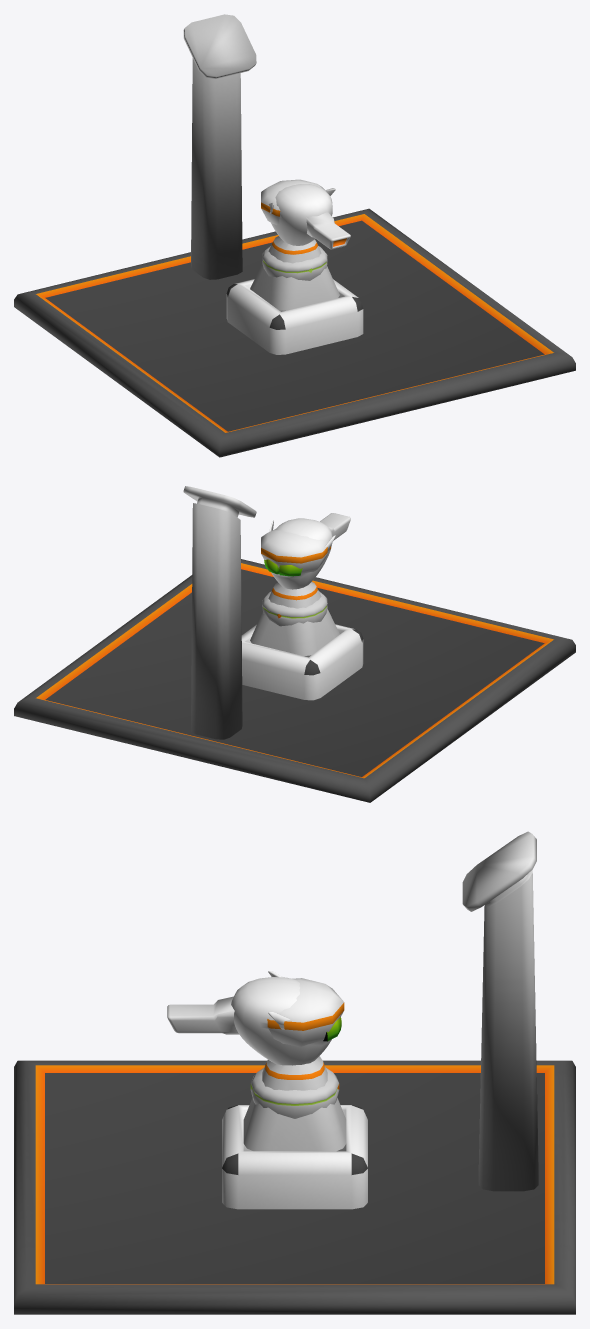
Rendered from Game Architecture Props.fbx.
3 renders of one model, top to bottom at view 1: azimuth 30°, elevation 25°; view 2: azimuth 150°, elevation 25°; view 3: azimuth 270°, elevation 25°, orthographic. The views are drawn at different scales.
Visible parts, largest first — view 1: Lift, Pressure_Cube, Laser Turret, Robot Good; view 2: Lift, Laser Turret, Pressure_Cube, Robot Good; view 3: Lift, Laser Turret, Pressure_Cube, Robot Good.
Part boxes in pixels (x1,y1,x2,y2): Lift: [14, 14, 575, 457]; Pressure_Cube: [226, 279, 363, 354]; Laser Turret: [250, 179, 350, 310]; Robot Good: [262, 184, 335, 280]; Lift: [14, 486, 575, 802]; Laser Turret: [250, 513, 350, 655]; Pressure_Cube: [241, 624, 363, 700]; Robot Good: [262, 518, 335, 626]; Lift: [14, 831, 575, 1314]; Laser Turret: [167, 978, 346, 1151]; Pressure_Cube: [222, 1105, 367, 1209]; Robot Good: [231, 971, 341, 1118].
Size of the model in its own units: 768 by 629 by 768.
